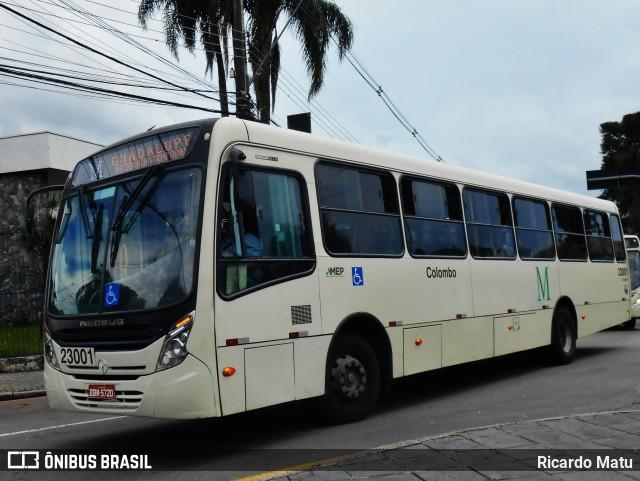GUADALUPE: (107, 132, 195, 169)
